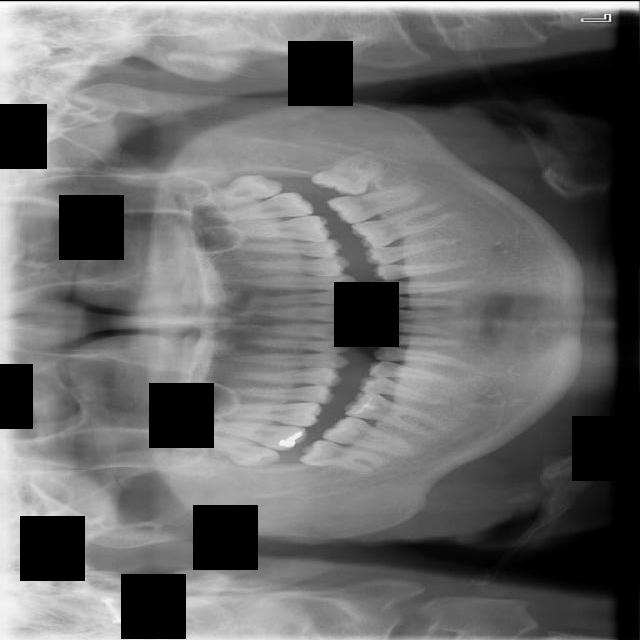3M ESPE Implant: (202, 431, 281, 474)
52: (343, 388, 385, 419), (258, 424, 308, 450)
73: (588, 57, 606, 65)
BioHorizons Implant: (206, 190, 314, 222)
BioLife Implant: (186, 168, 283, 213)
Biomet 3i Implant: (309, 143, 392, 212)
Blue Sky Bio Implant: (327, 180, 431, 227)
Caries: (206, 418, 307, 452)
Implant: (324, 412, 416, 458)
Keystone Dental Implant: (299, 437, 383, 474)
